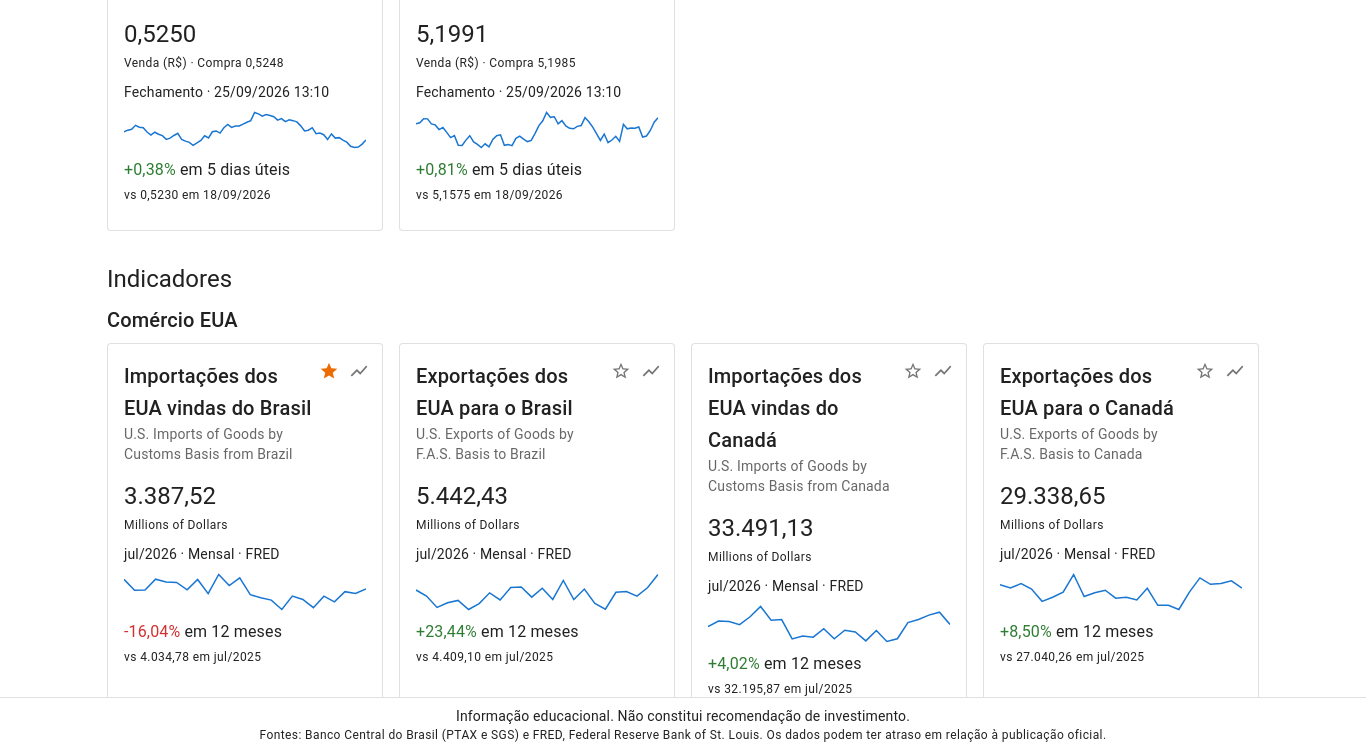
App › should list the source and series limitations in the chart modal of an indicator
This screenshot has width=1366, height=754.
(page scrolled)
Click the button named "Ver gráfico de Importações dos EUA vindas do Brasil": [359, 371] box [344,356,374,386]
(page scrolled)
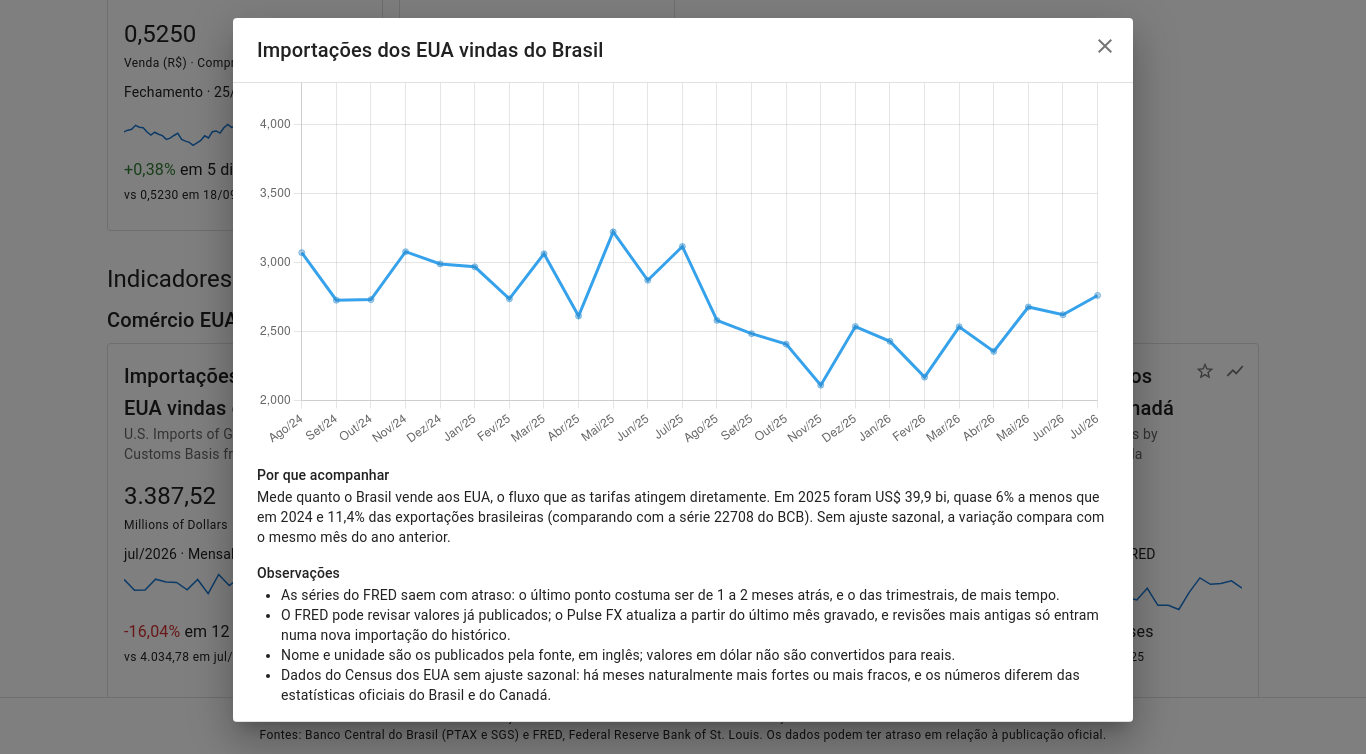
expect the list item "Census dos EUA sem ajuste sazonal" is shown: met, box [281,667,1080,703]
